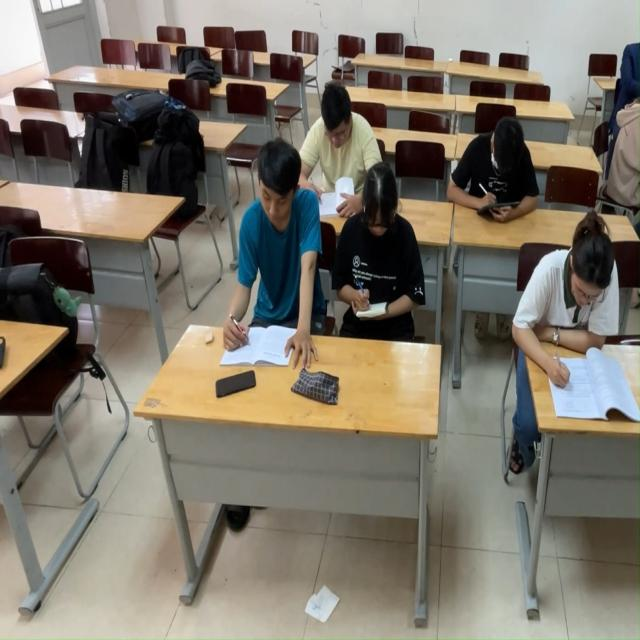read: (504, 206, 640, 434), (322, 143, 436, 368), (219, 150, 320, 395), (450, 106, 543, 231), (309, 72, 366, 214)
